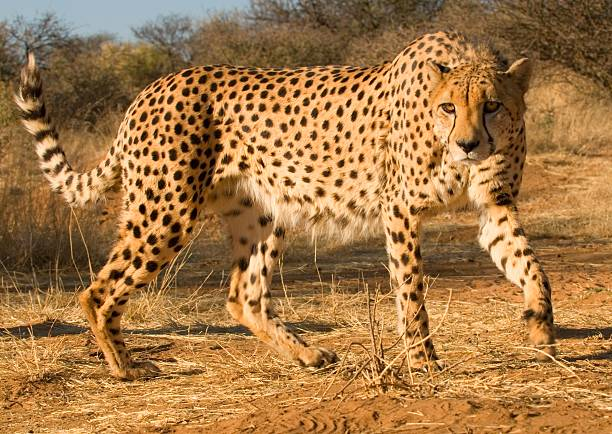cheetah: (423, 50, 549, 171)
